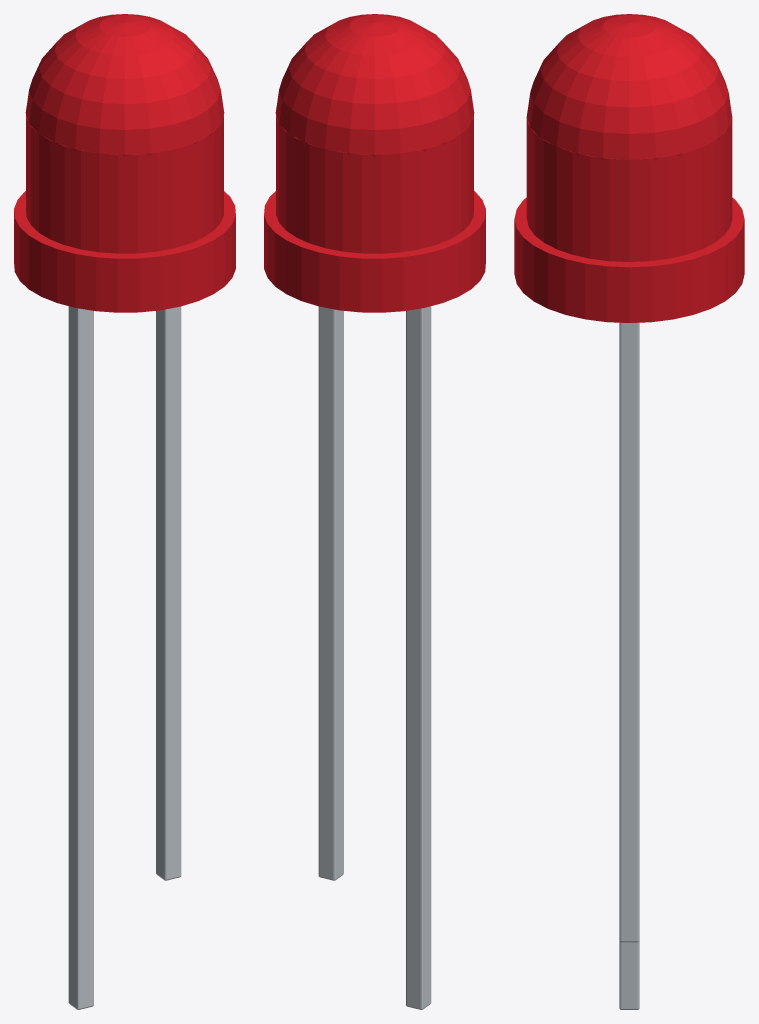
The model's file is led.glb.
3 renders of one model, left to right at view 1: azimuth 30°, elevation 25°; view 2: azimuth 150°, elevation 25°; view 3: azimuth 270°, elevation 25°, orthographic. The views are drawn at different scales.
Visible parts, largest first — view 1: Static body • red, Static body • silver; view 2: Static body • red, Static body • silver; view 3: Static body • red, Static body • silver.
Boxes of the visible parts, <box> form: Static body • red: <box>14,14,235,312</box>; Static body • silver: <box>68,306,181,1009</box>; Static body • red: <box>264,14,485,312</box>; Static body • silver: <box>318,306,431,1009</box>; Static body • red: <box>514,14,744,322</box>; Static body • silver: <box>619,322,639,1009</box>.
Bounding box in the file's own units: 5.6 × 27 × 5.6.
